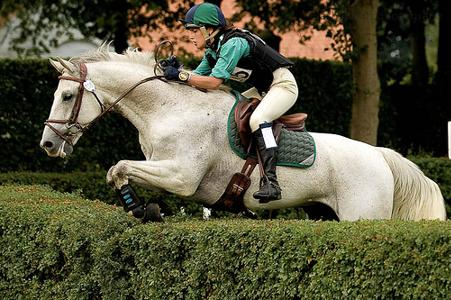person: (162, 5, 300, 204)
